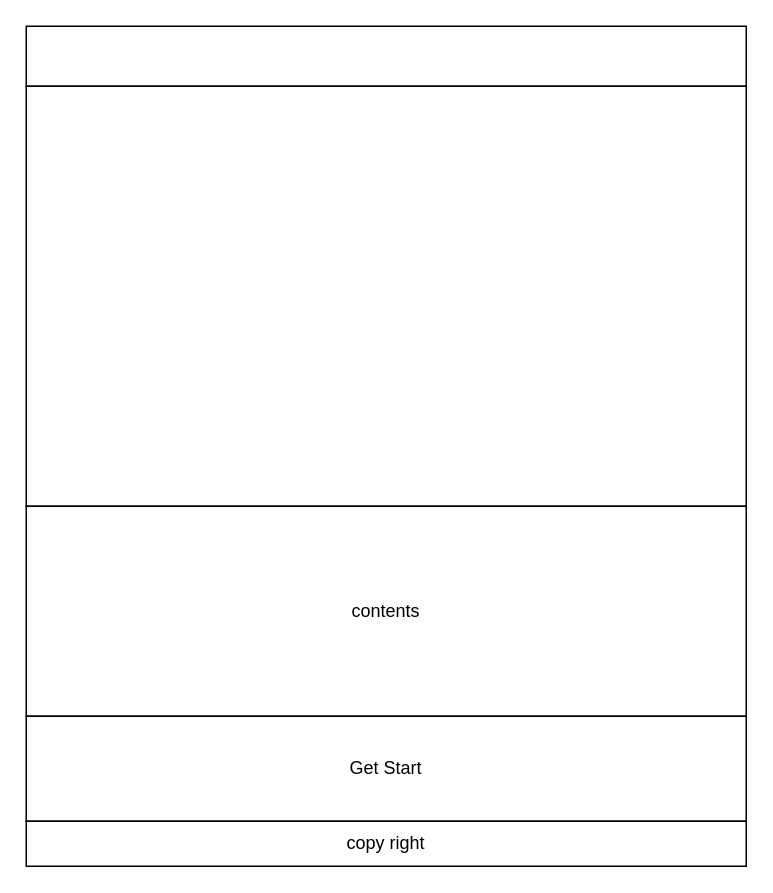
The diagram is 773 pixels wide and 893 high, and some of its shapes have lost their labels. Here are the shapes that lost their labels. From the top down, the centre of each, then its label:
the point at 385,55: Main Menu
the point at 385,295: QC2020
